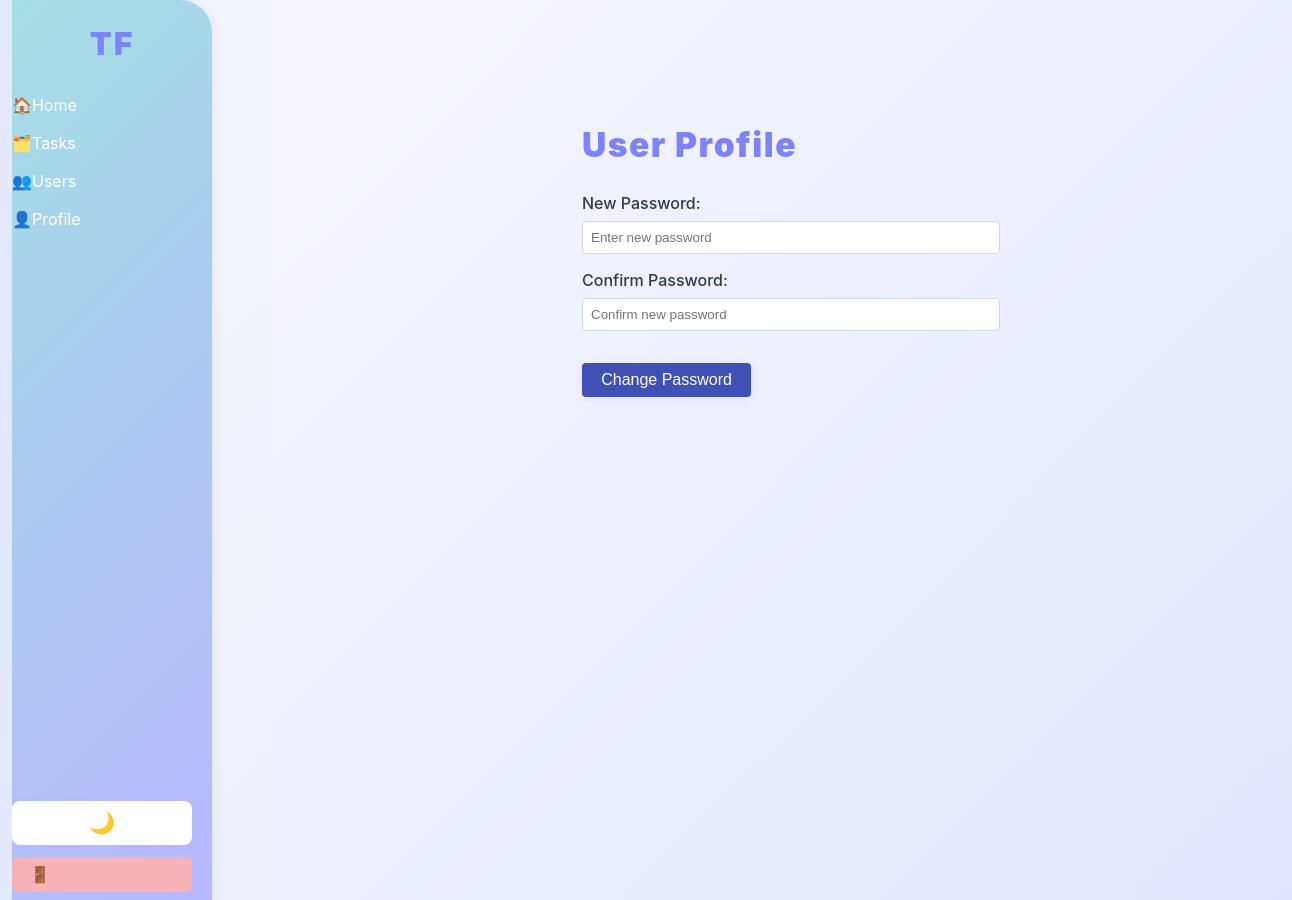
Test: shows error if passwords do not match
Step 1. Click the button "Change Password" → {"x": 667, "y": 380}, box [582,363,751,397]
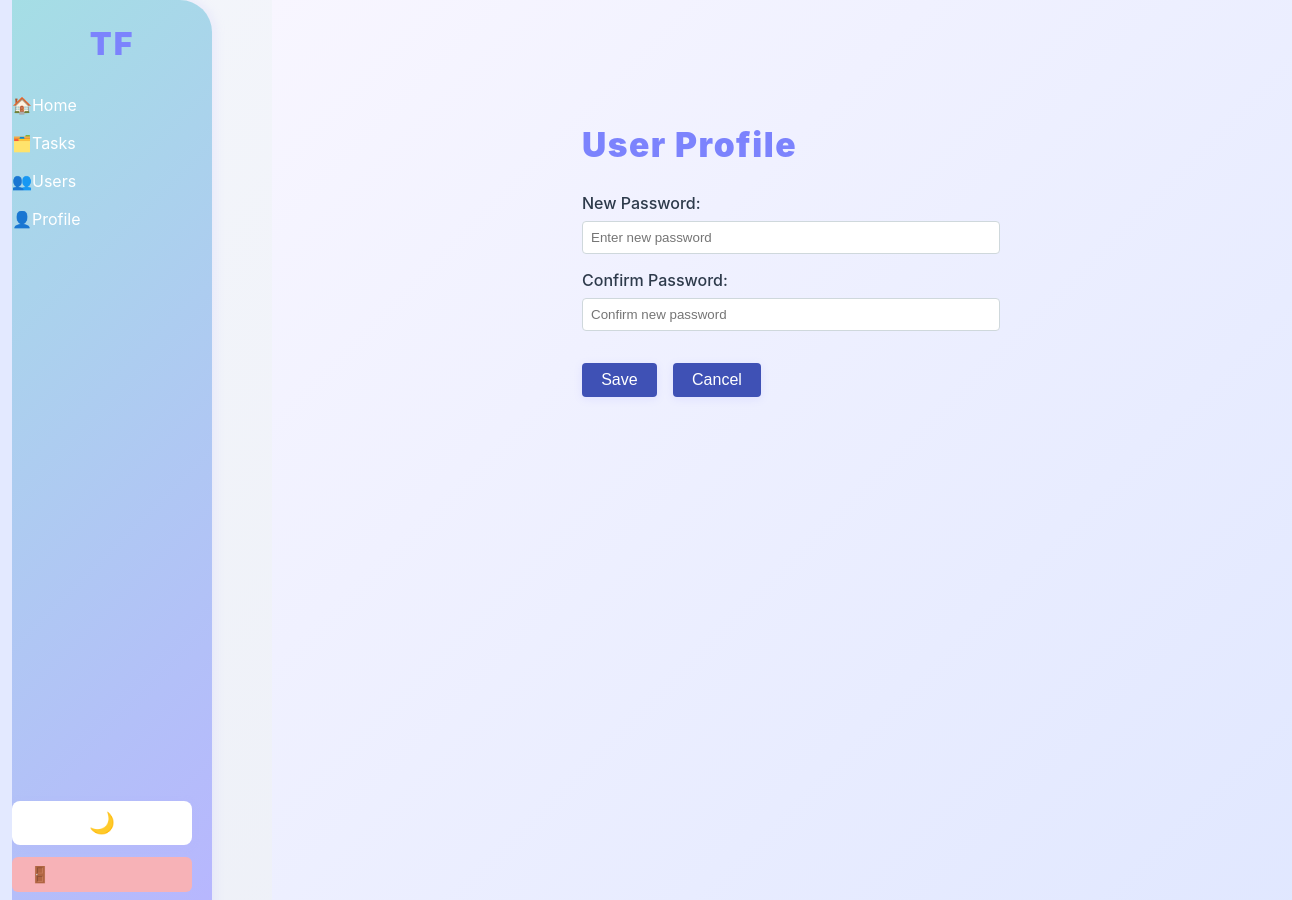
Step 2. Type "1234" into the password field labelled "New Password:" → {"x": 791, "y": 237}, box [582,221,1000,254]
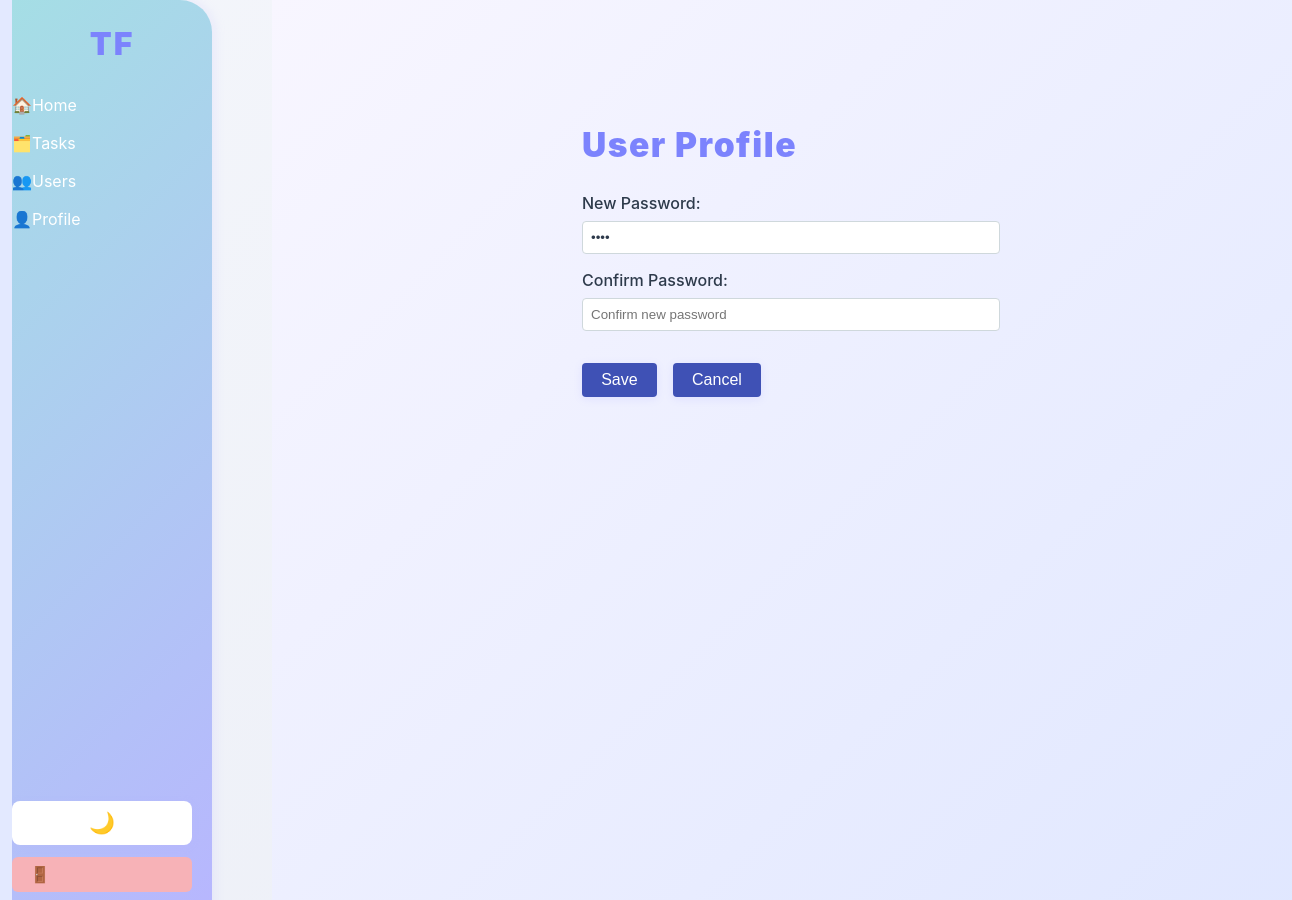
Step 3. Type "4321" into the password field labelled "Confirm Password:" → {"x": 791, "y": 314}, box [582,298,1000,331]
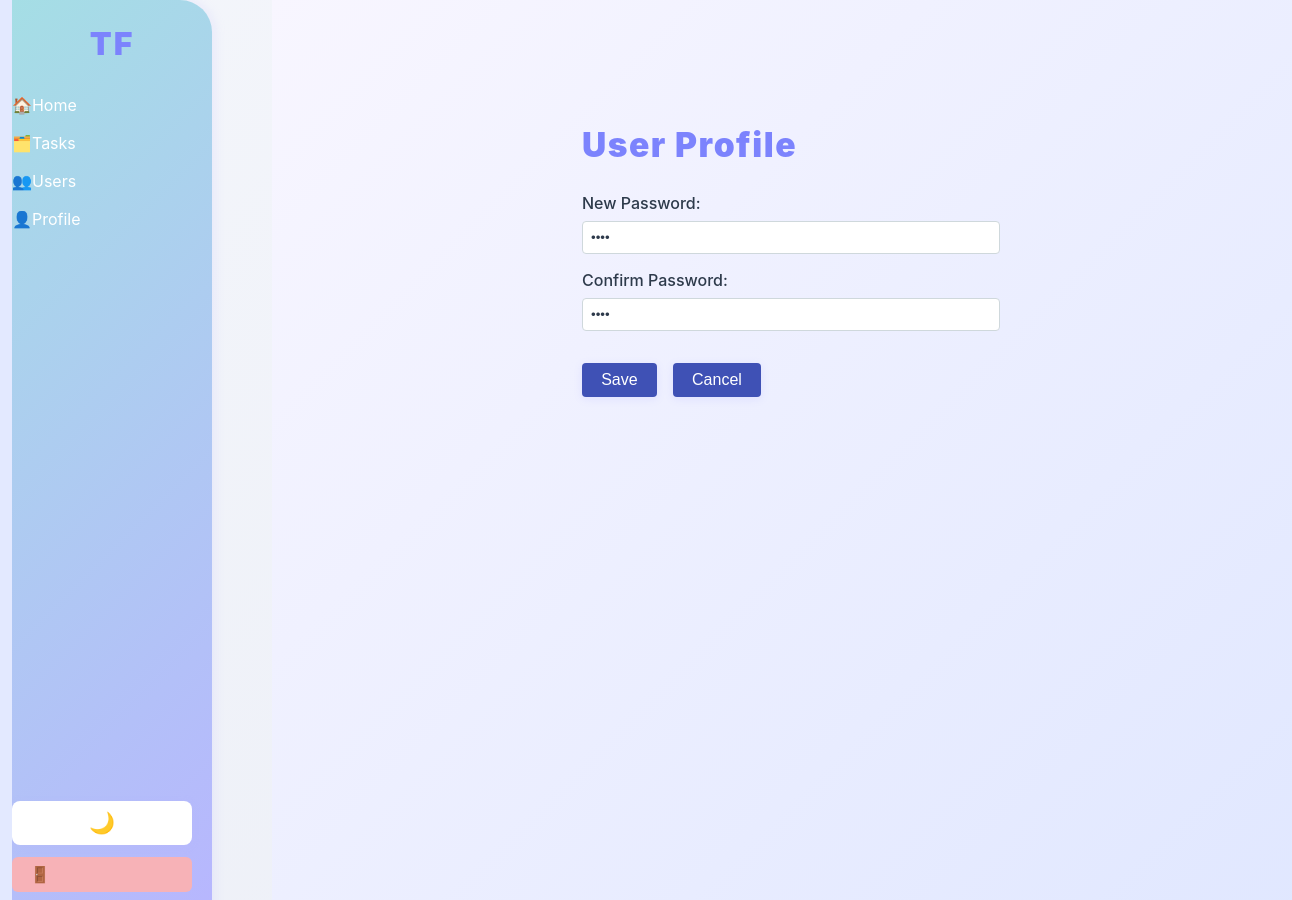
Step 4. Click the button "Save" → {"x": 619, "y": 380}, box [582,363,657,397]
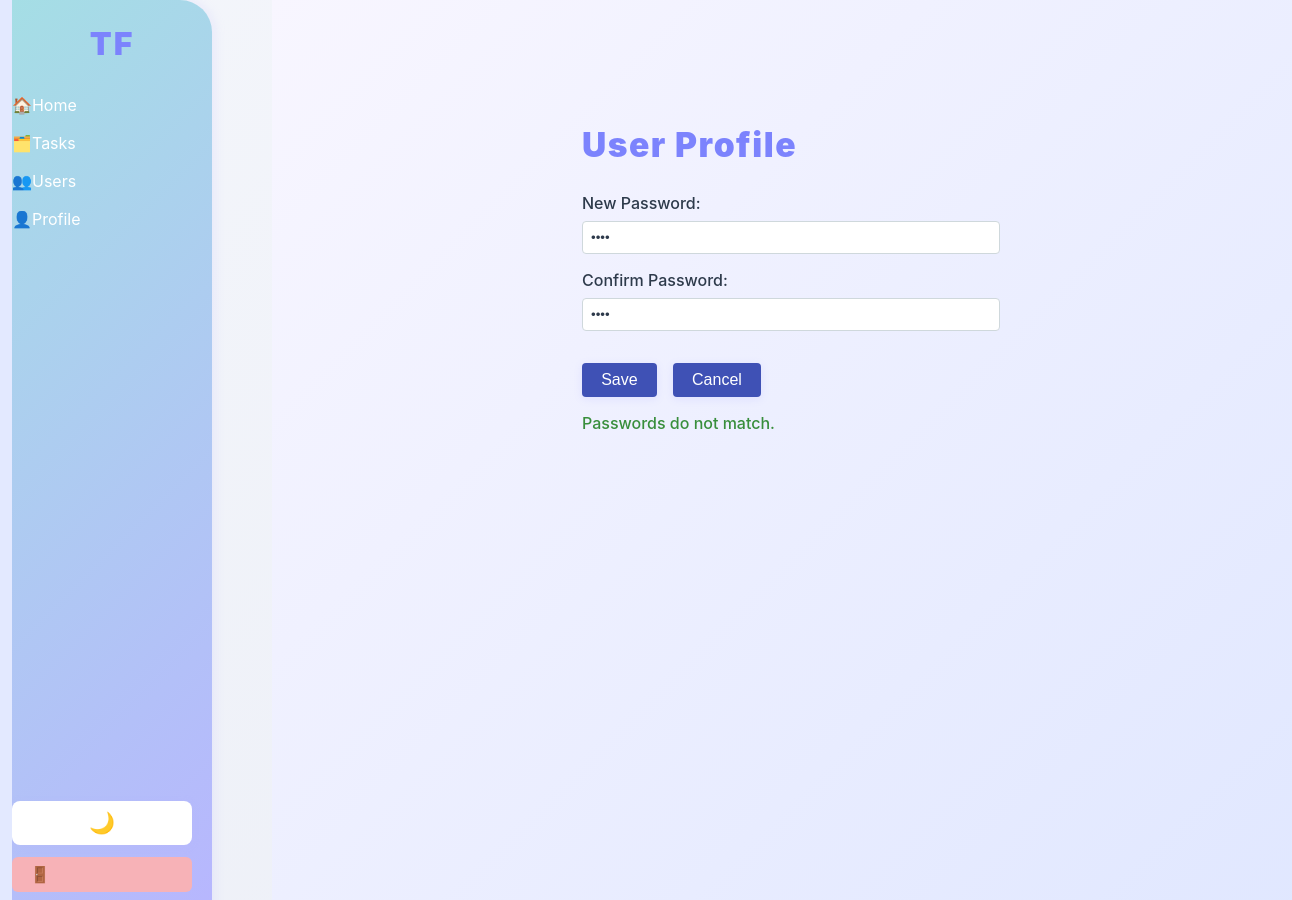
Expected: the text "Passwords do not match." is shown, [582,413,775,433]
